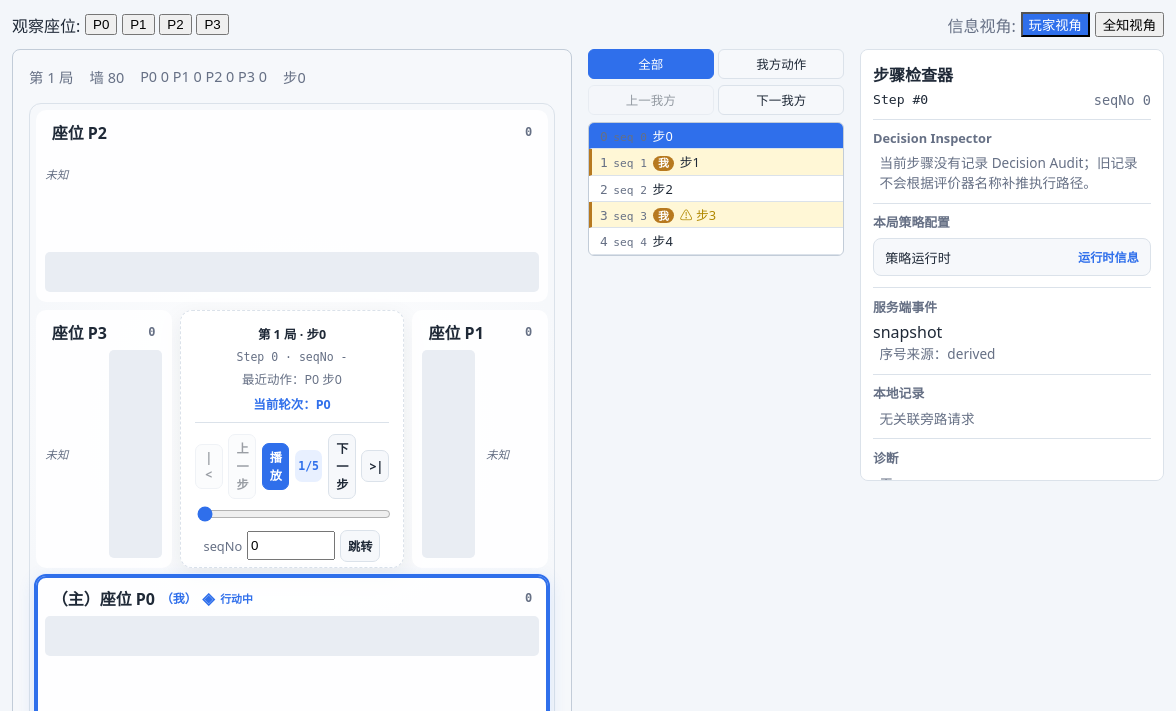
Timeline 条目与高亮 › 我方动作筛选只改时间线,保留全局 replay index 并使用专用跳转
Step 1. Click the button with test id "btn-next" → {"x": 342, "y": 466}, box [328,434,356,498]
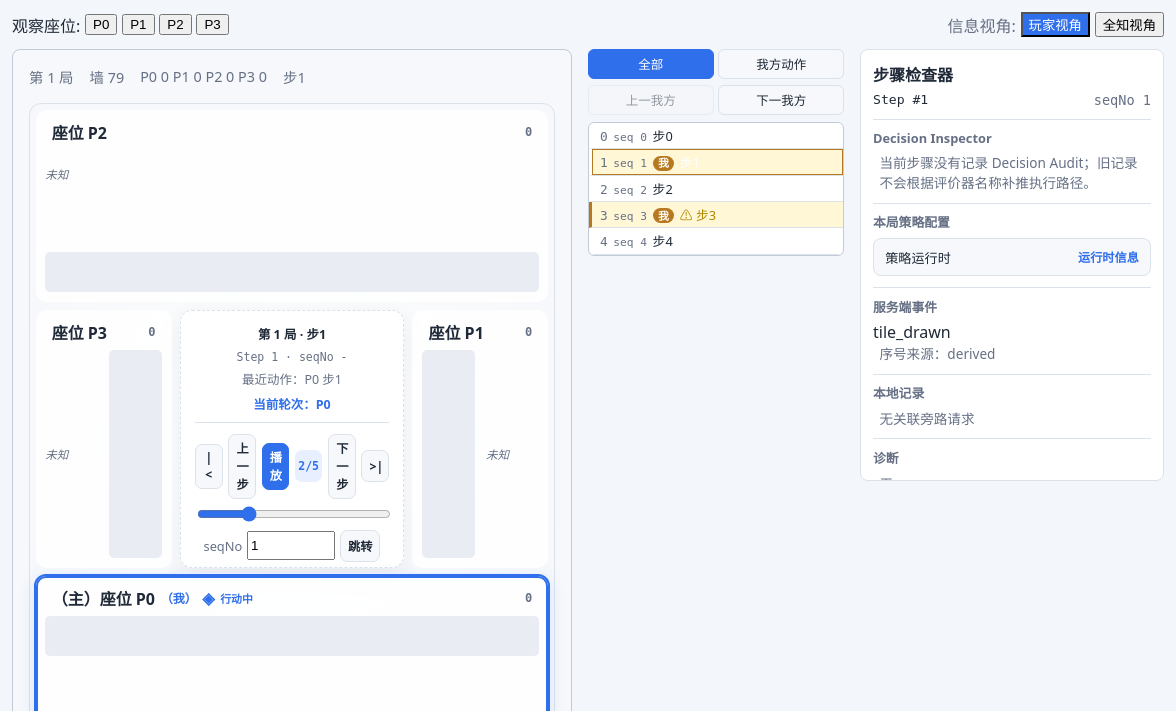
Step 2. Click the button with test id "actor-filter-mine" → {"x": 781, "y": 64}, box [718,49,844,79]
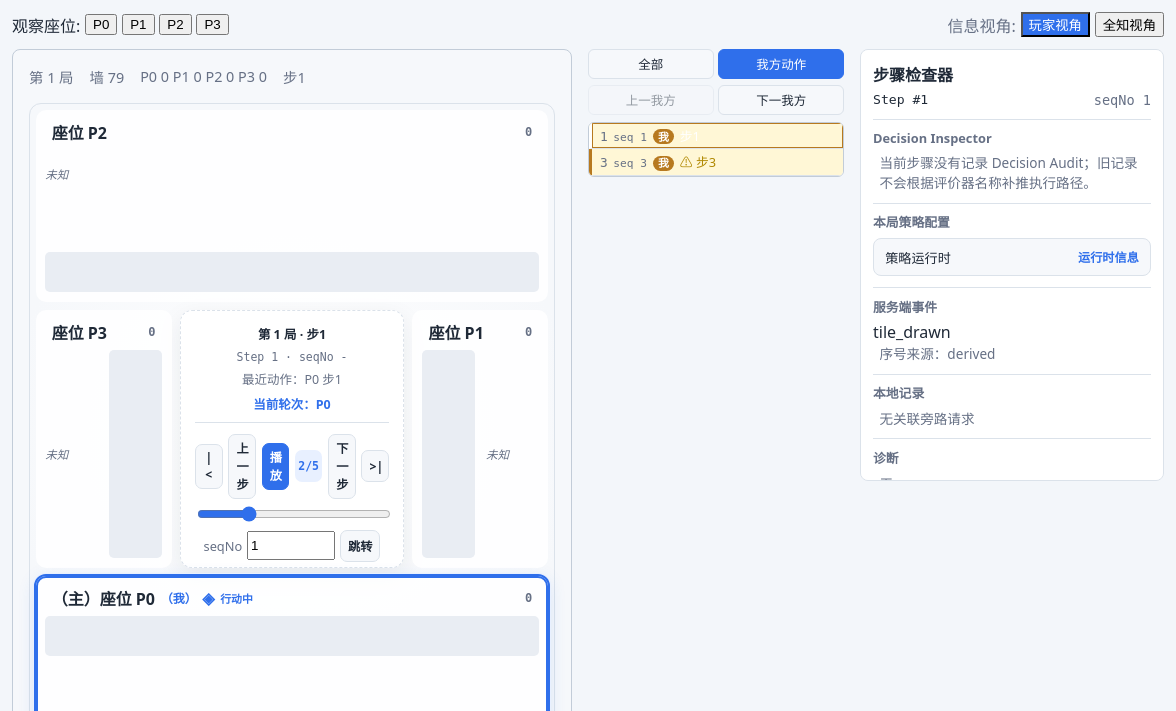
Check: the list item with test id "tl-item-1" is shown, box [589,123,843,149]
Check: the list item with test id "tl-item-0" is gone
Check: the list item with test id "tl-item-2" is gone
Step 3. Click the button with test id "btn-next-mine" → {"x": 781, "y": 100}, box [718,85,844,115]
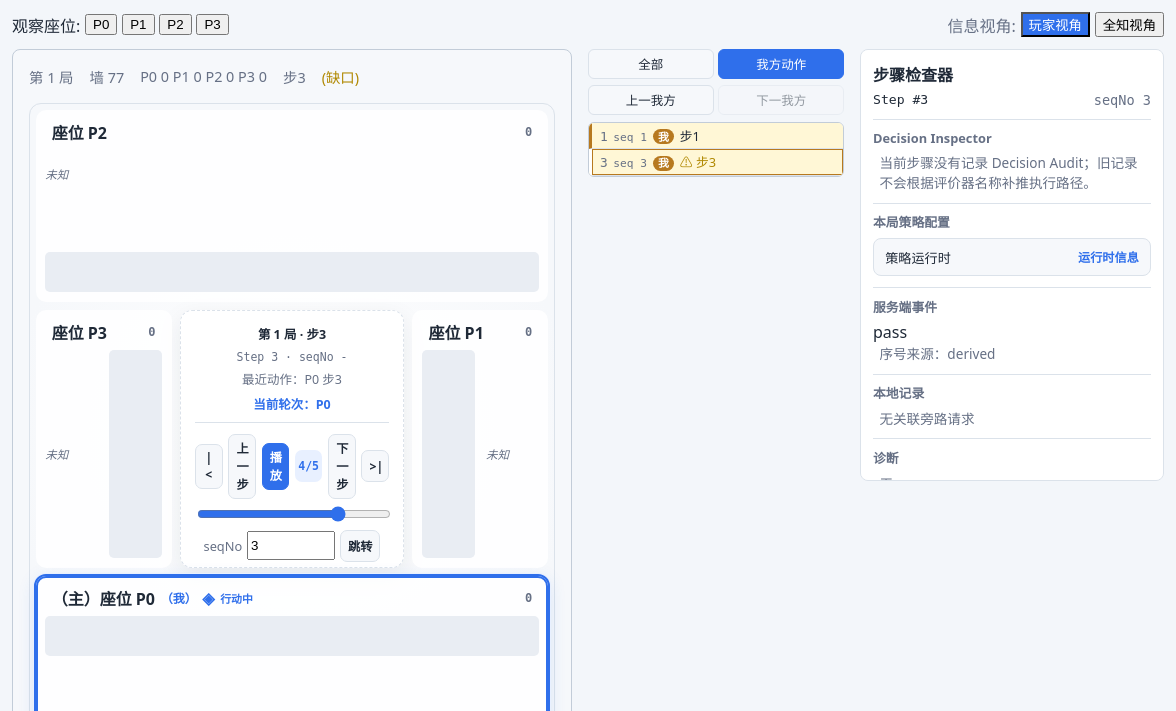
Check: the text with test id "index" reads "4/5", box [298,459,319,473]
Step 4. Click the button with test id "btn-next" → {"x": 342, "y": 466}, box [328,434,356,498]
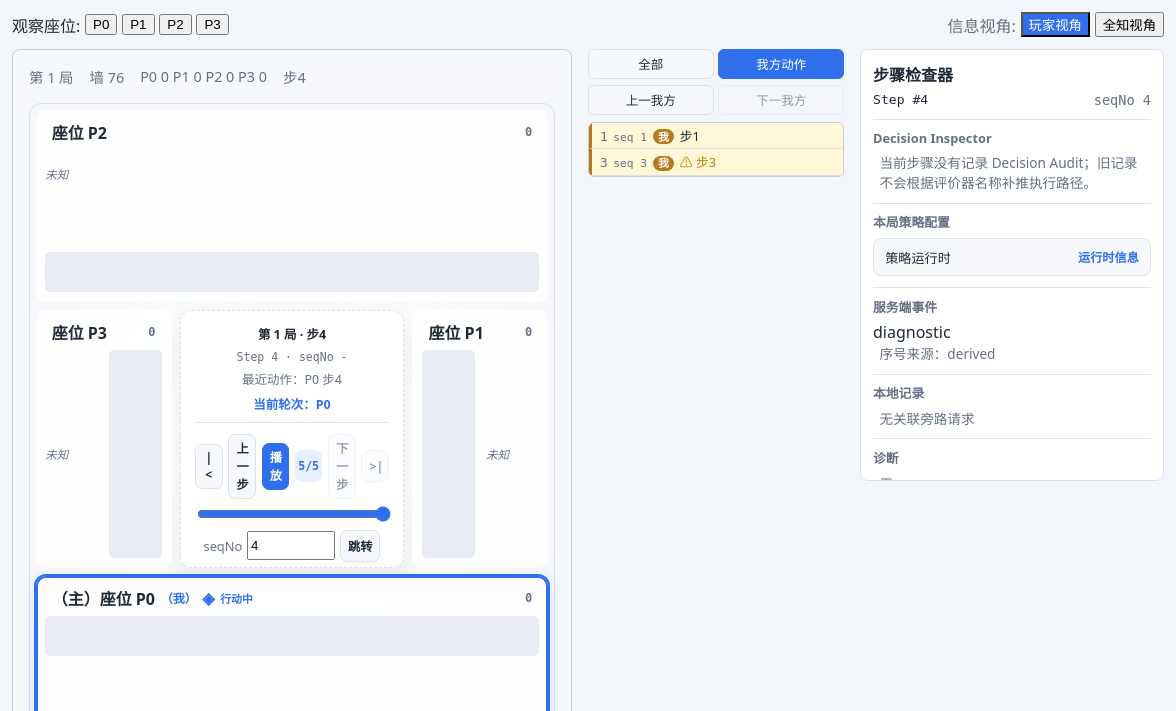
Check: the text with test id "index" reads "5/5", box [298,459,319,473]
Step 5. Click the button with test id "actor-filter-all" → {"x": 651, "y": 64}, box [588,49,714,79]
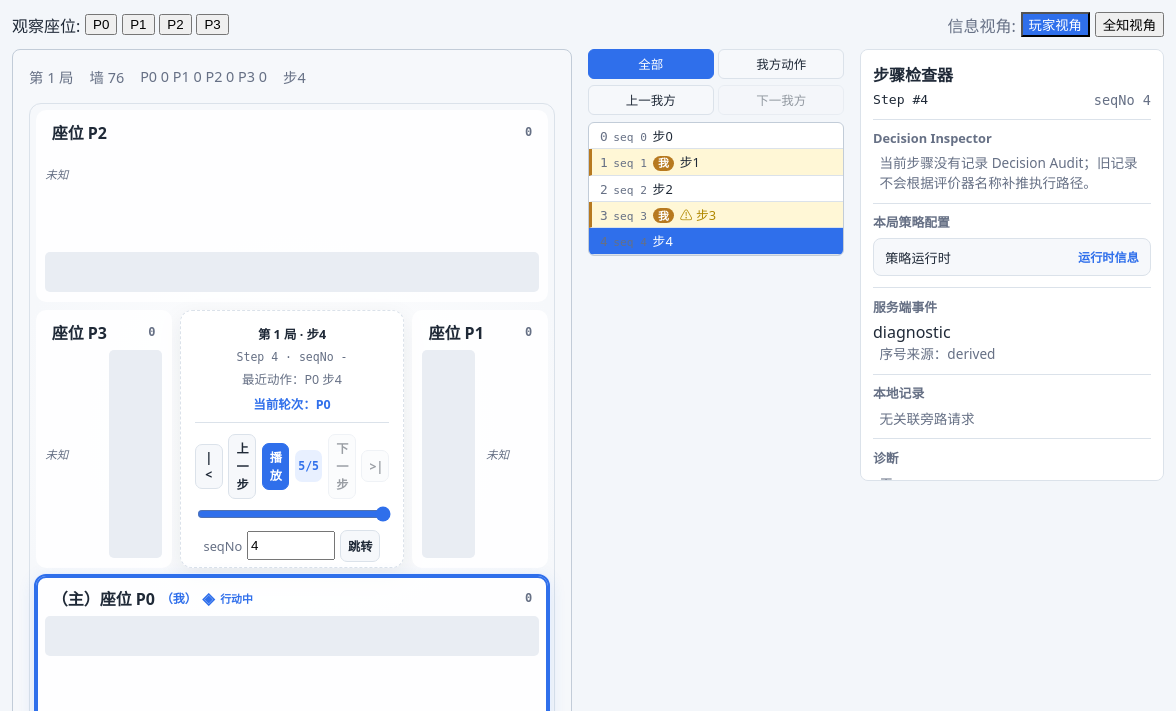
Check: the list item with test id "tl-item-4" is shown, box [589,228,843,255]
